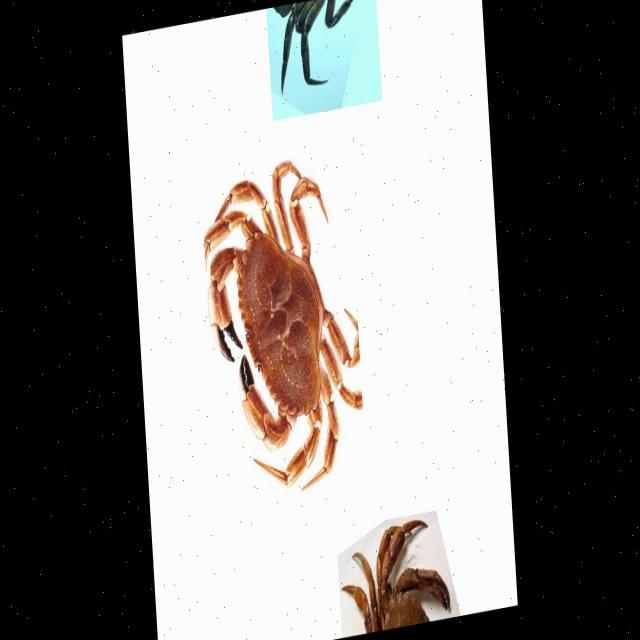egc: (273, 1, 351, 97)
